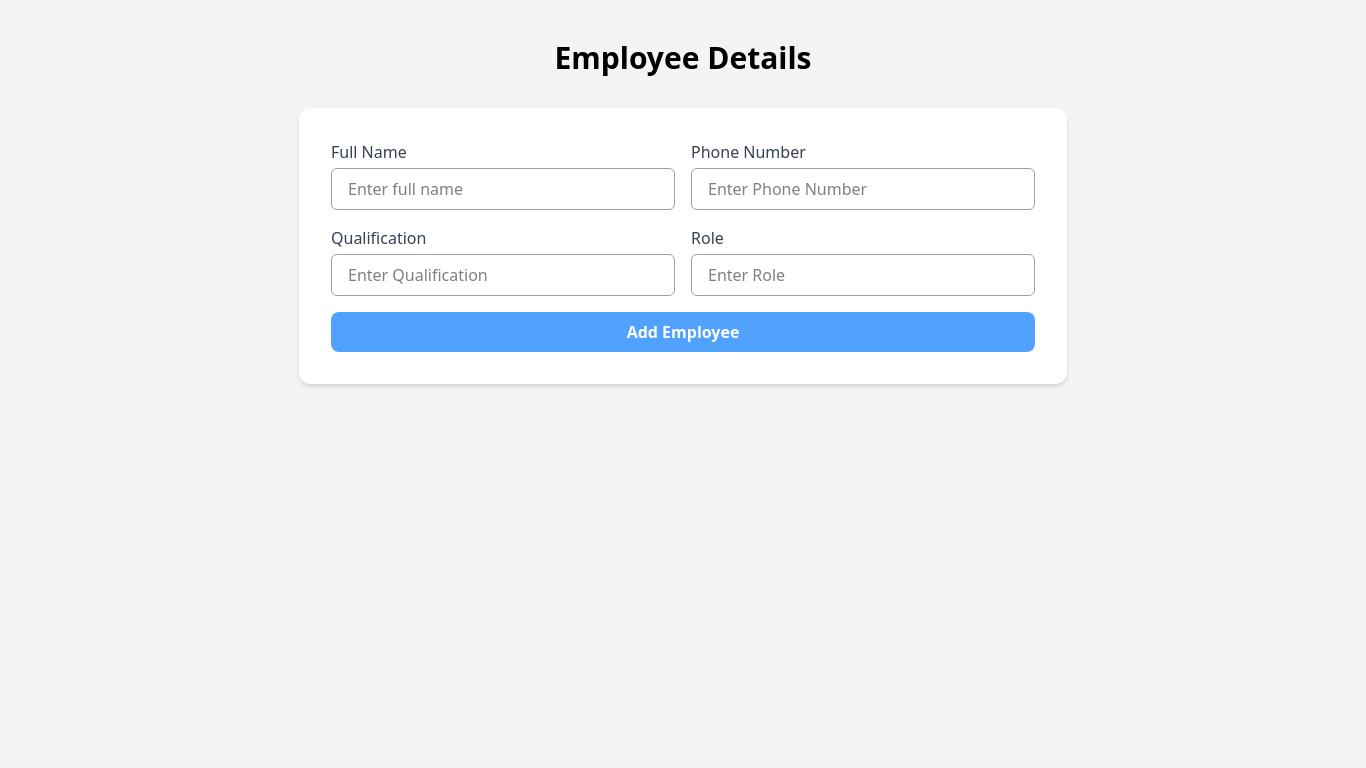
Test: EmployeePage › delete an employee
Type "Mark" into the field labelled "Full Name" at (503, 189), box [331, 168, 675, 210]
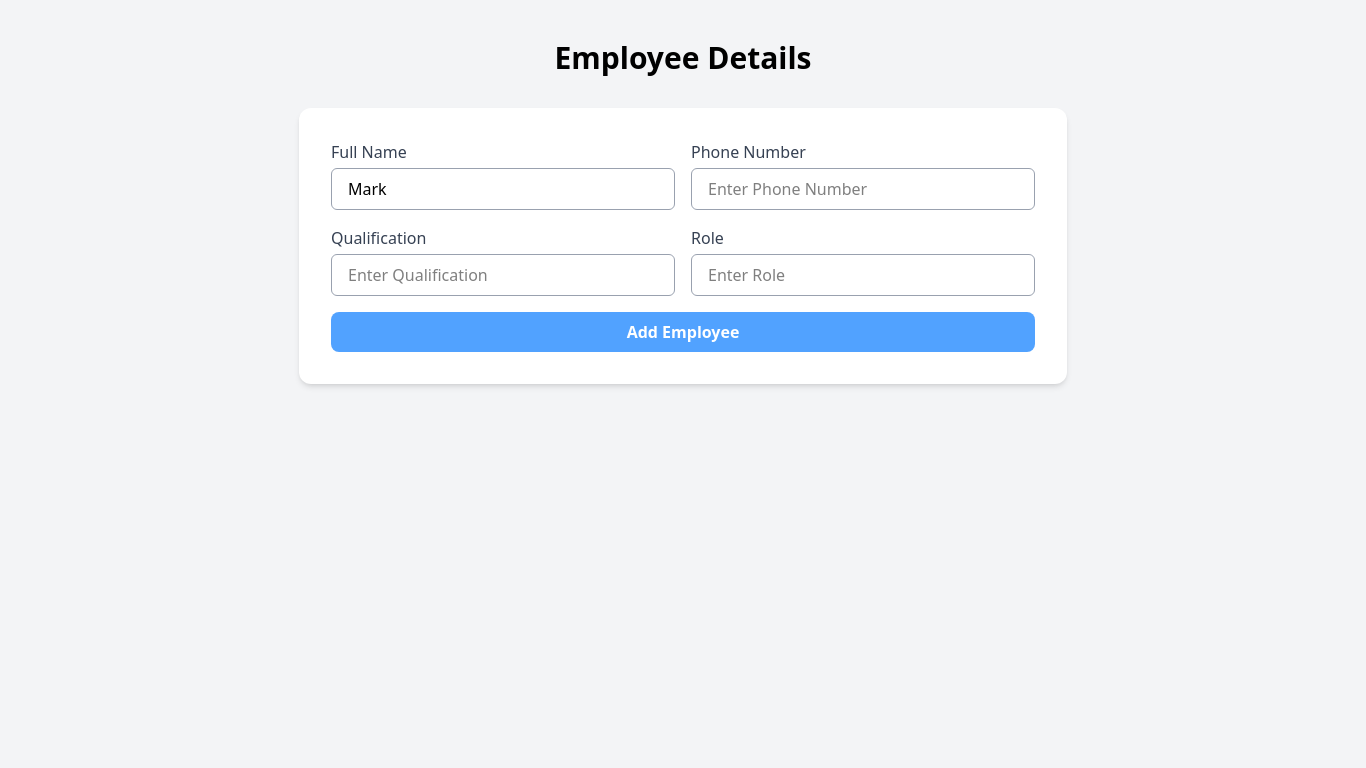
Type "8888888888" into the field labelled "Phone Number" at (863, 189), box [691, 168, 1035, 210]
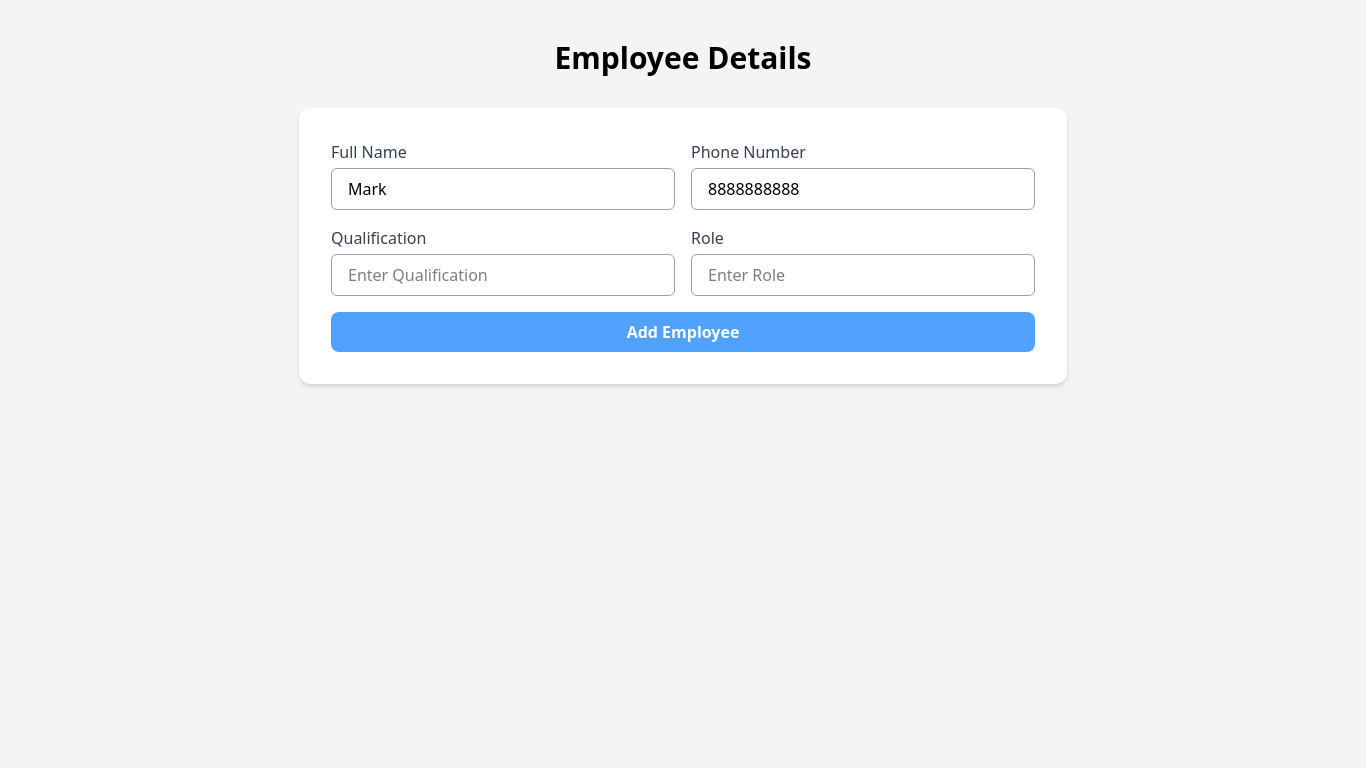
Type "MCA" into the field labelled "Qualification" at (503, 275), box [331, 254, 675, 296]
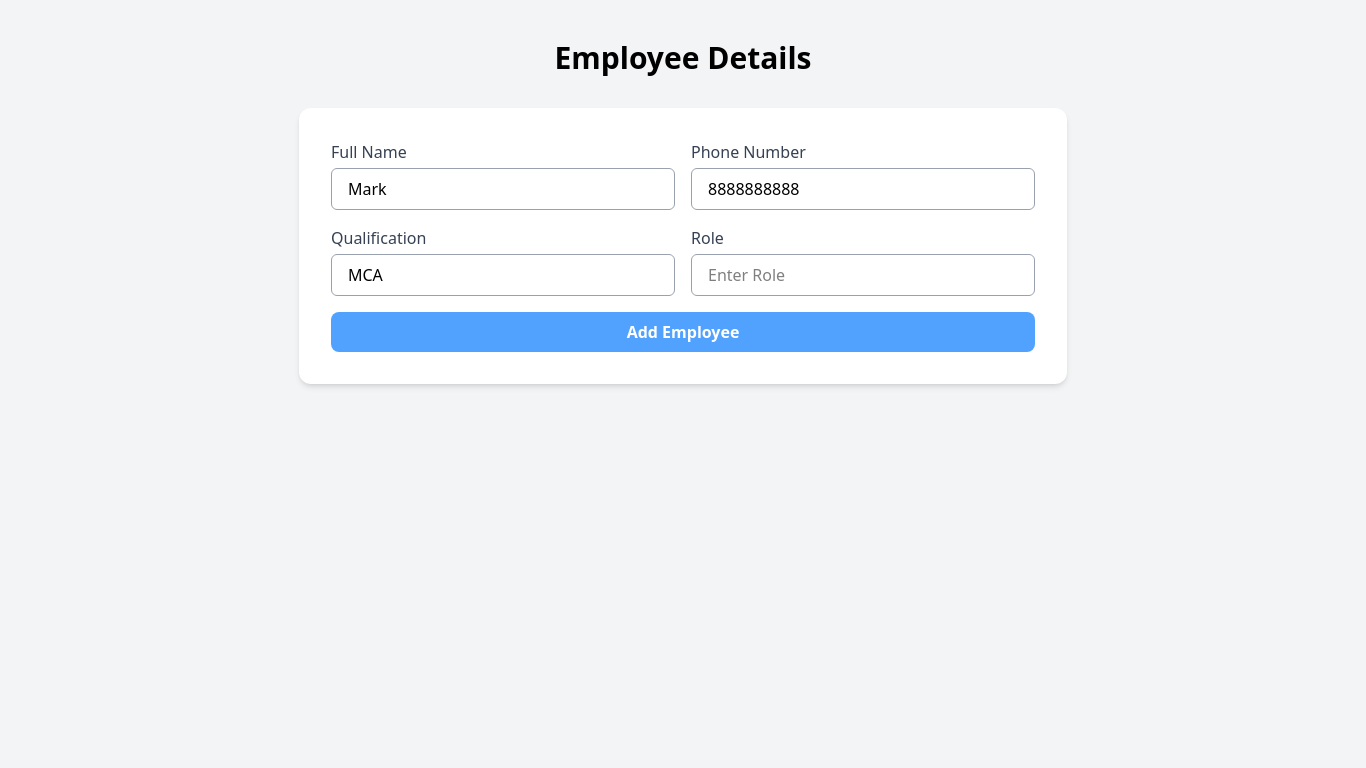
Type "Tester" into the field labelled "Role" at (863, 275), box [691, 254, 1035, 296]
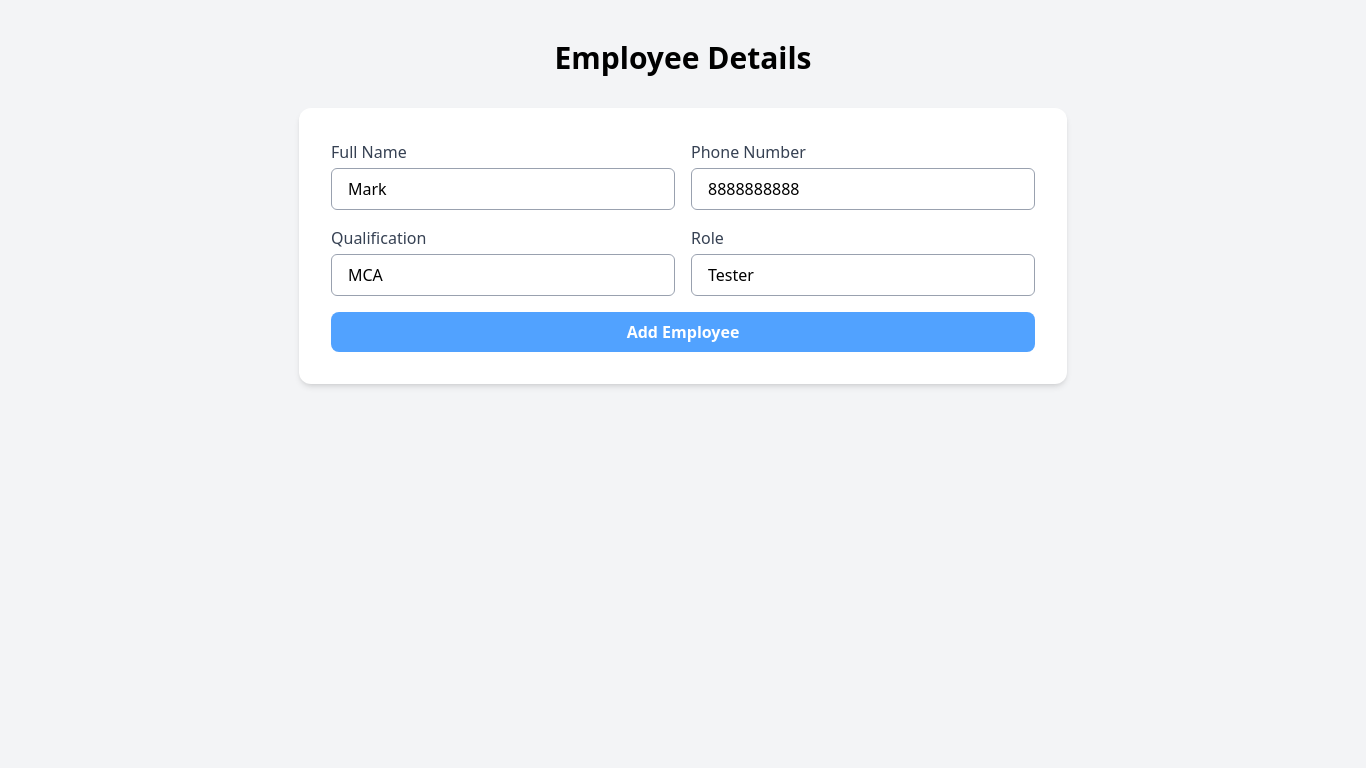
Click the button "Add Employee" at (683, 332), box [331, 312, 1035, 352]
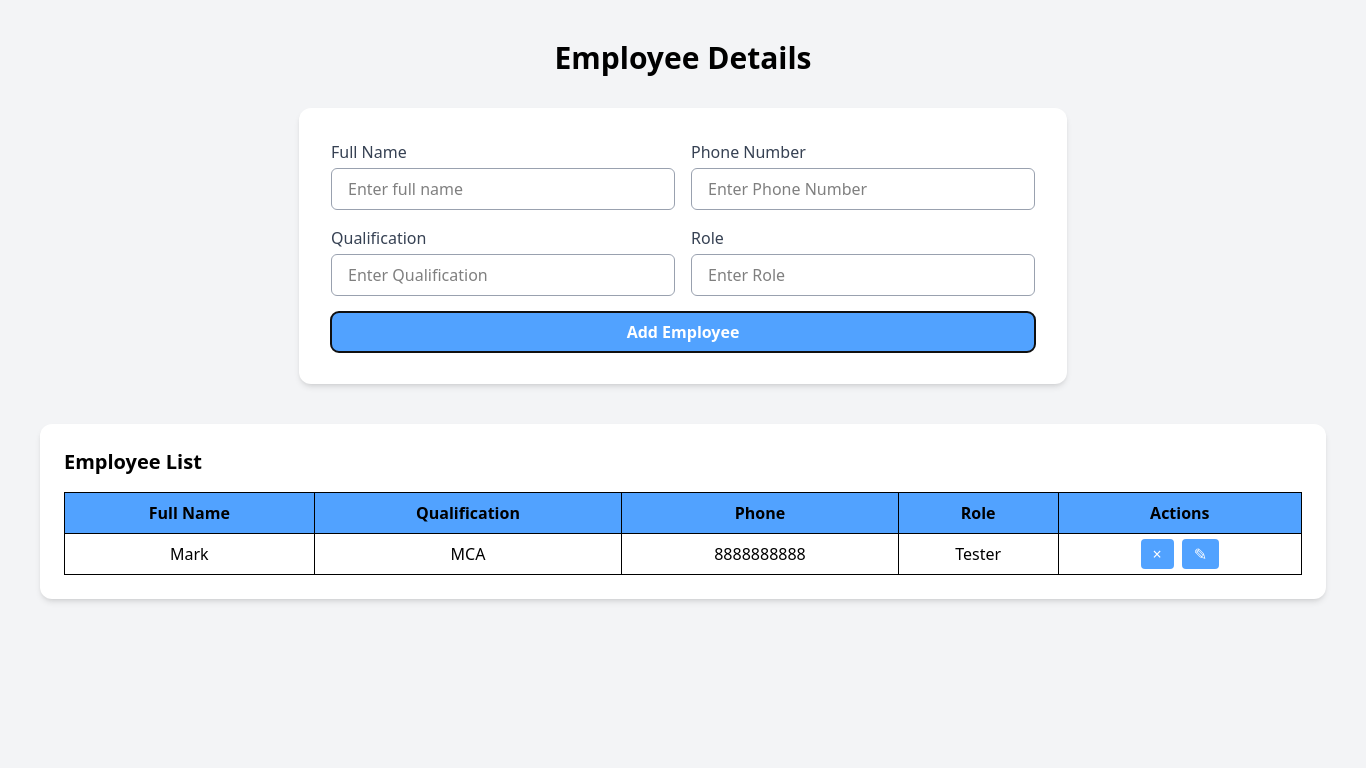
Now the text "Mark" is shown, box [64, 534, 314, 574]
Click the text "×" at (1157, 554), box [1141, 539, 1174, 569]
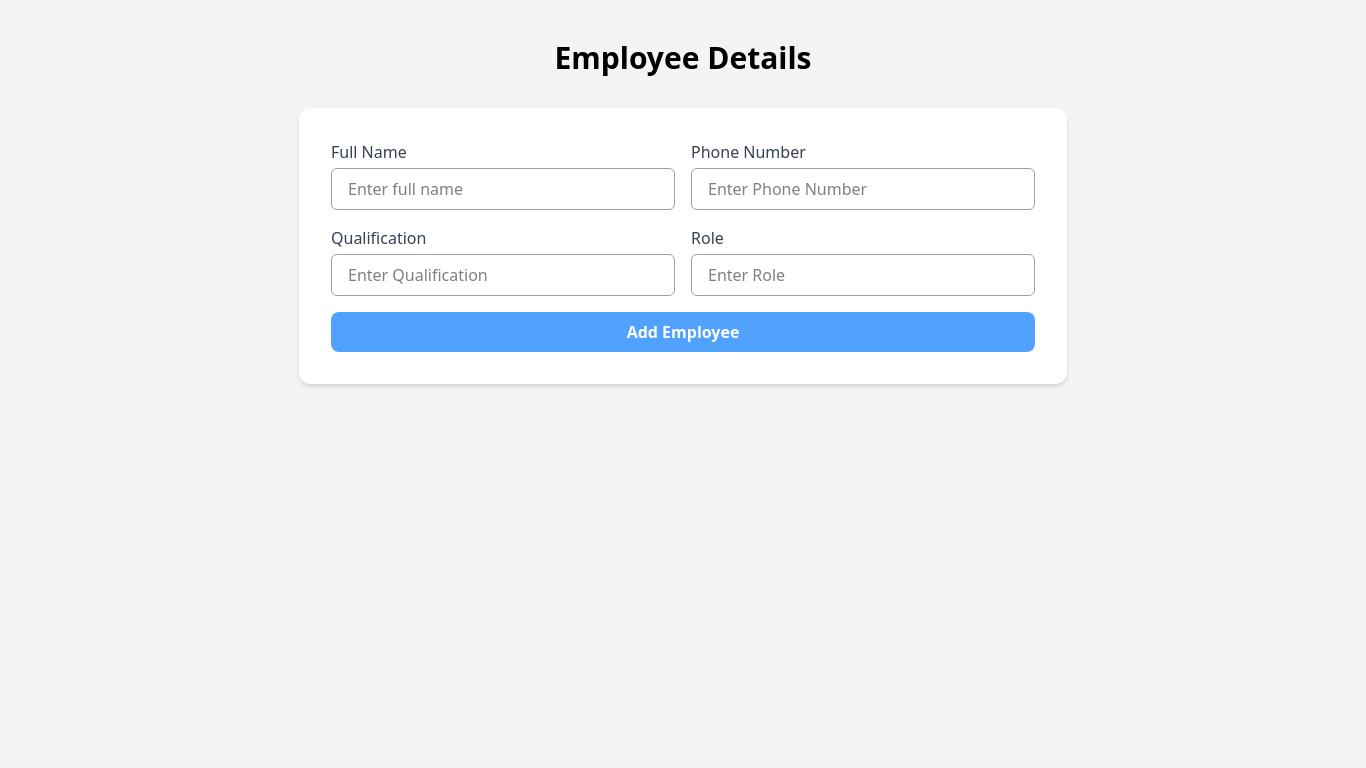
Now the text "Mark" is gone
